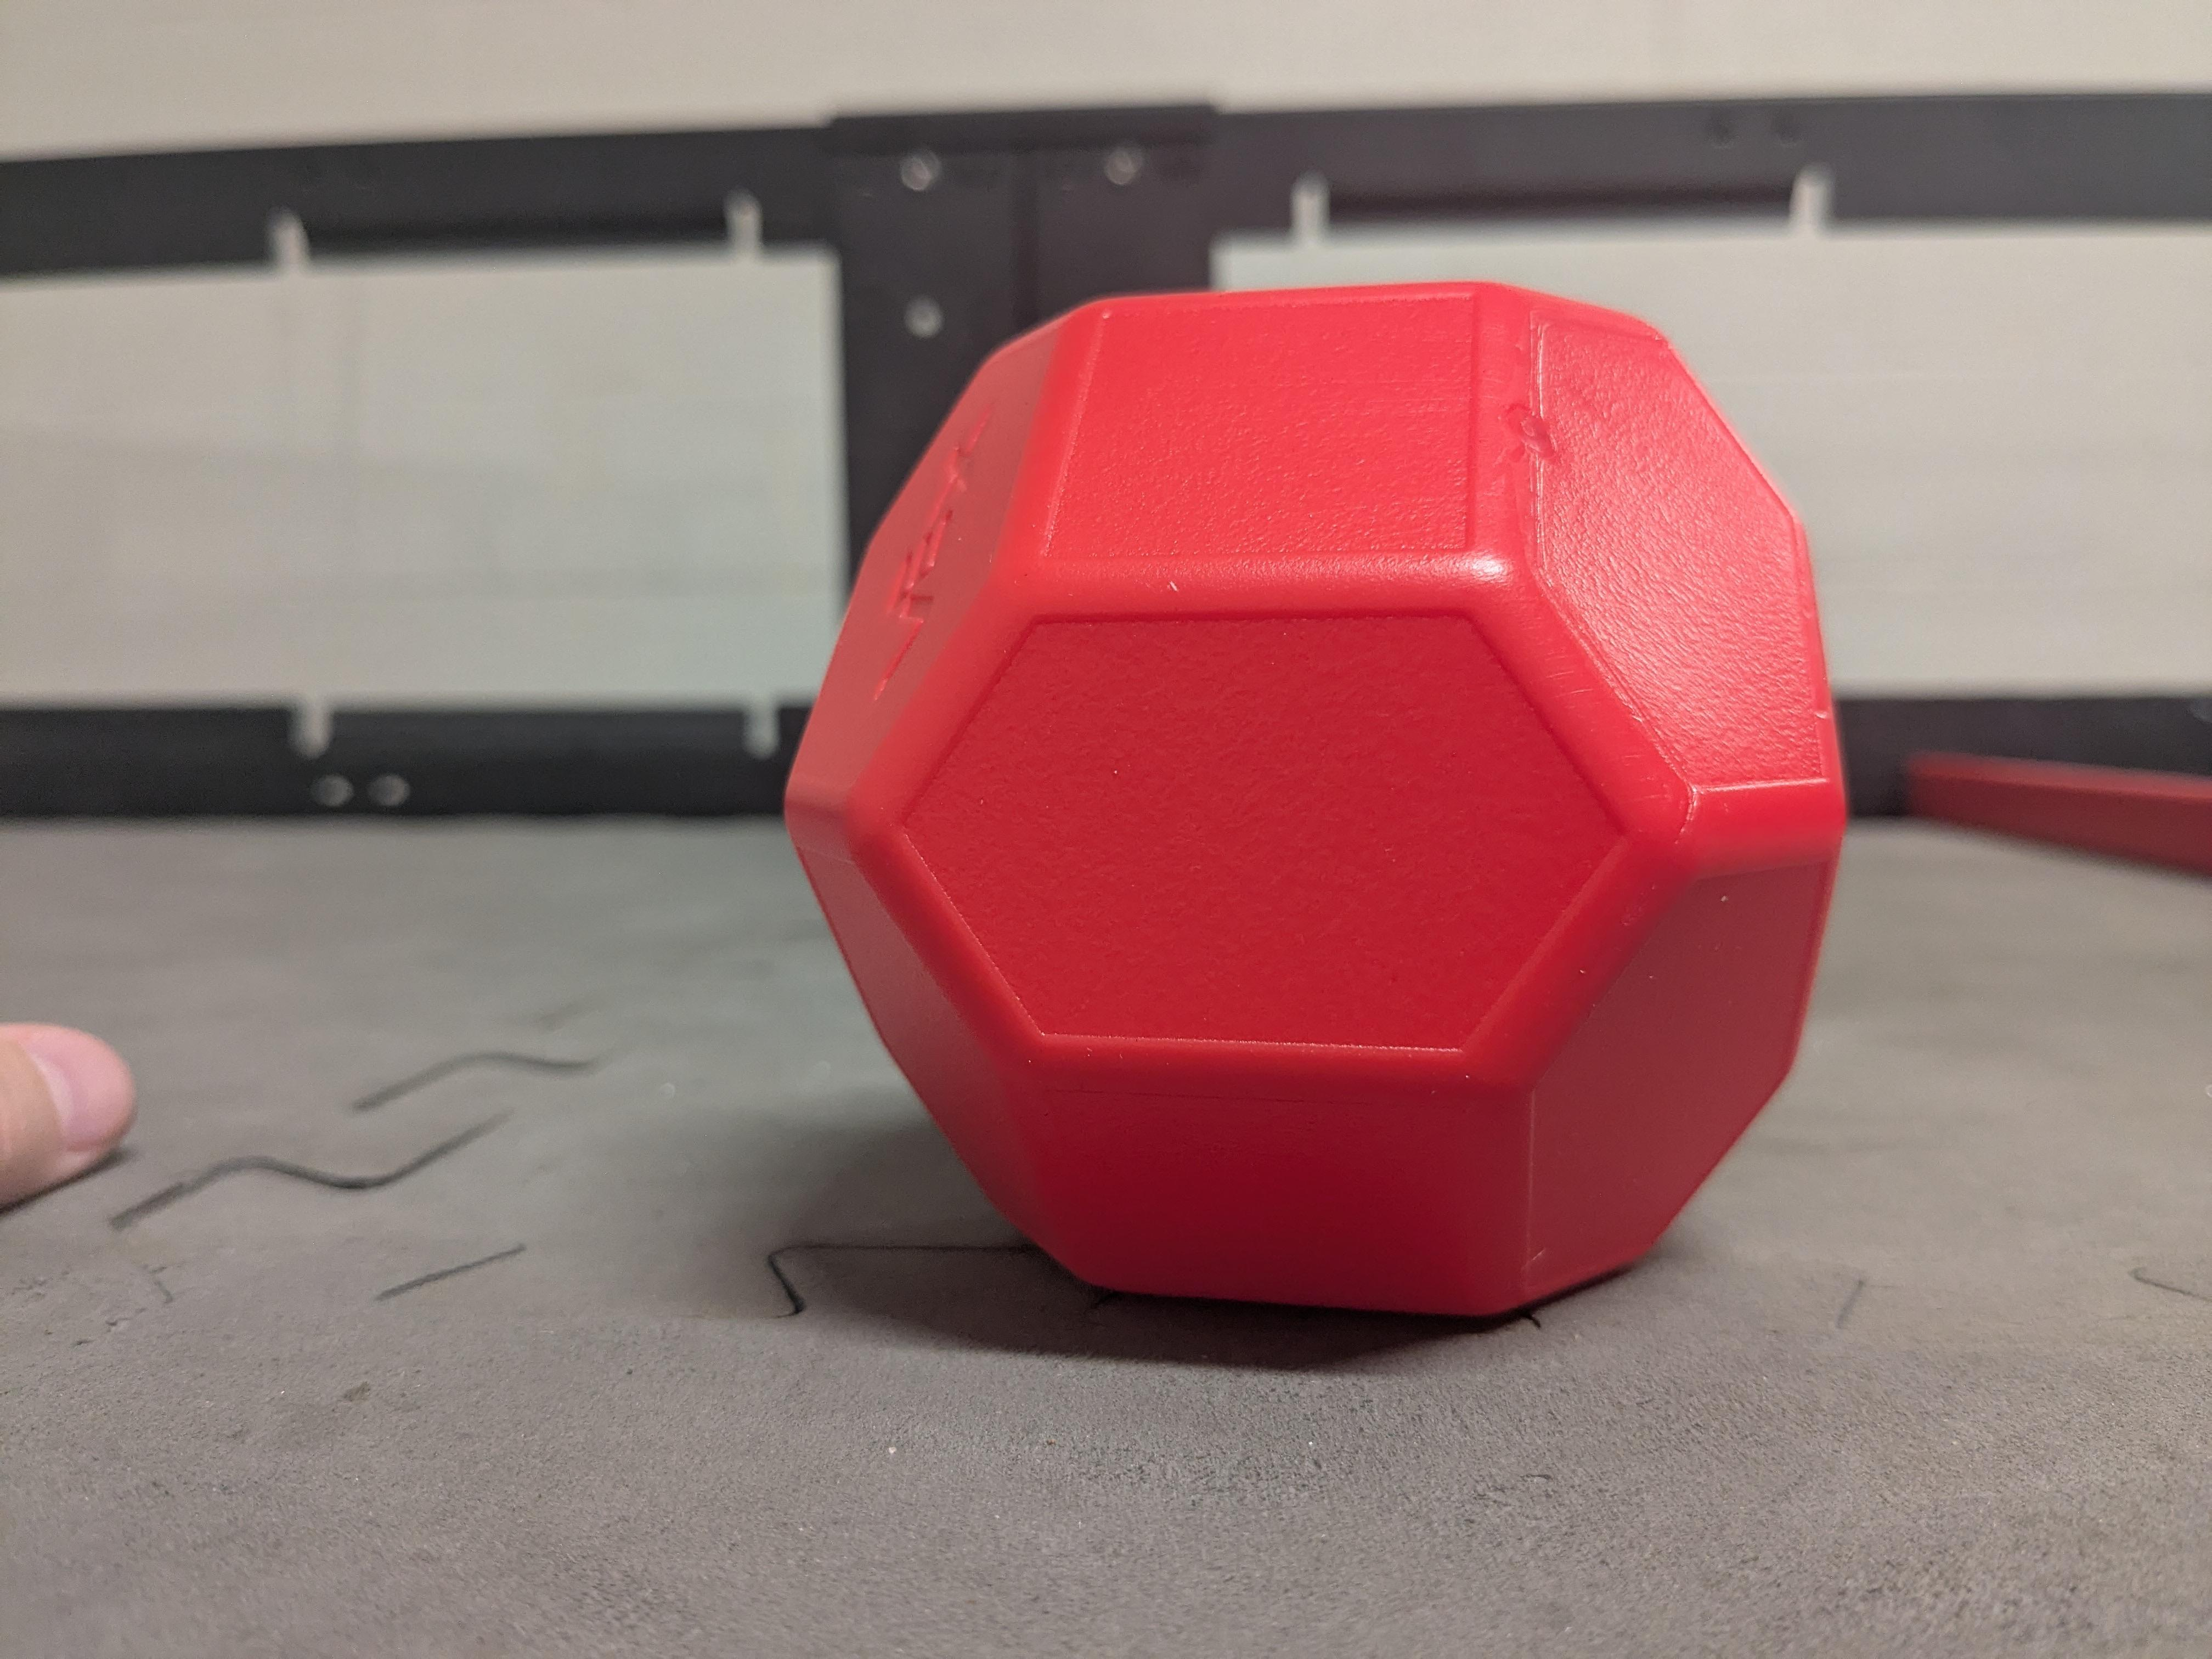Vex-Pieces-RED: (786, 282, 1843, 1314)
